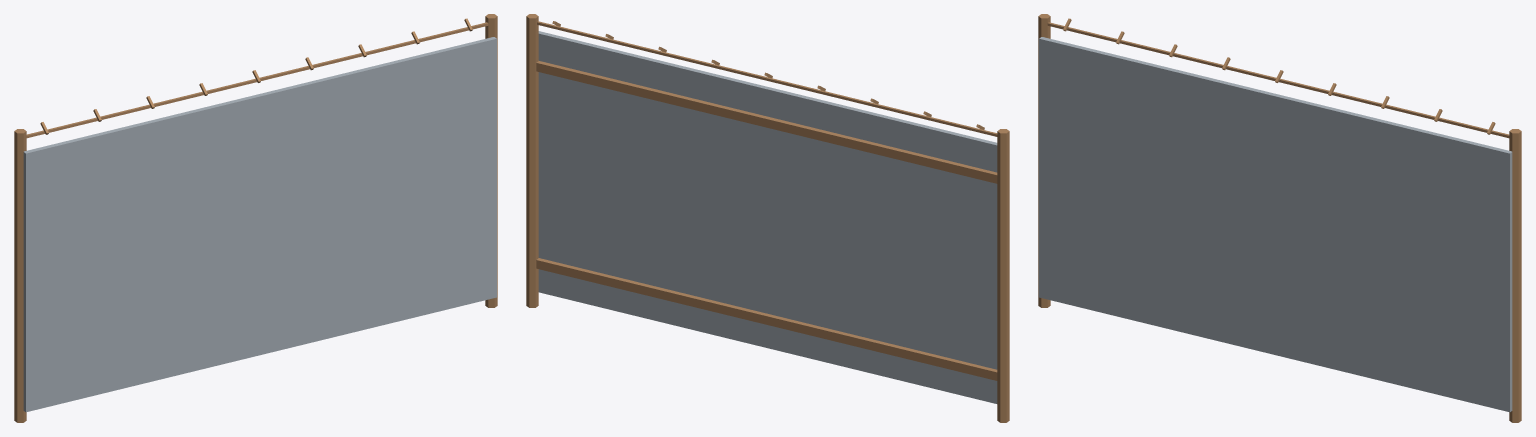
The model's file is fence.glb.
The picture shows the model from 3 angles, left to right: view 1: azimuth 30°, elevation 25°; view 2: azimuth 150°, elevation 25°; view 3: azimuth 330°, elevation 25°; orthographic projection.
Visible parts, largest first — view 1: fence, posts; view 2: fence, posts; view 3: fence, posts.
Part boxes in pixels (x1,y1,x2,y2): fence: [23, 37, 496, 412]; posts: [14, 14, 497, 422]; fence: [538, 31, 997, 403]; posts: [526, 14, 1009, 422]; fence: [1039, 37, 1512, 412]; posts: [1038, 14, 1521, 422].
Size of the model in its own units: 4.08 by 2.37 by 0.125.
